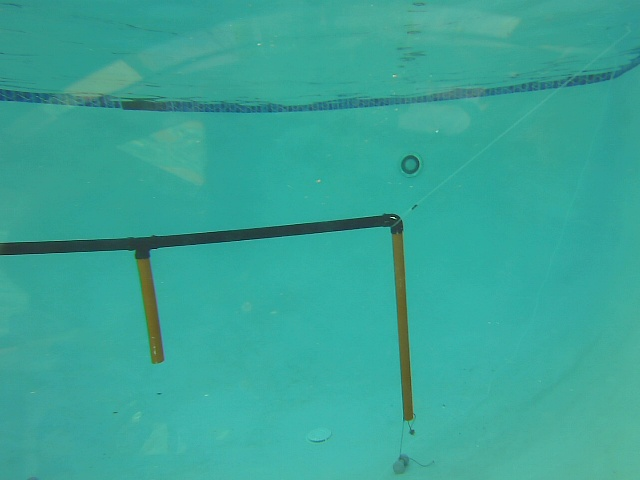Gate: (390, 227, 414, 425), (135, 253, 168, 366)
